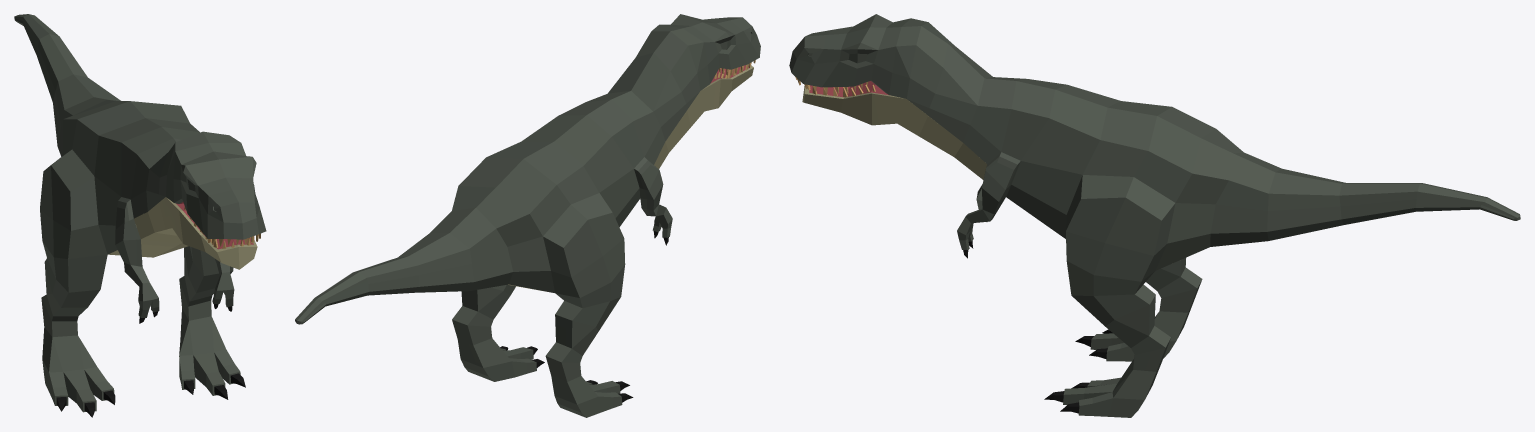
Rendered from dinosaur.glb.
The picture shows the model from 3 angles, left to right: view 1: azimuth 30°, elevation 25°; view 2: azimuth 150°, elevation 25°; view 3: azimuth 270°, elevation 25°; orthographic projection. The views are drawn at different scales.
Visible parts, largest first — view 1: Trex; view 2: Trex; view 3: Trex.
Part boxes in pixels (left/top/right/bottom): Trex: left=14, top=14, right=266, bottom=417; Trex: left=295, top=14, right=760, bottom=417; Trex: left=789, top=14, right=1520, bottom=417.
Bounding box in the file's own units: 1.48 × 2.73 × 5.42.
